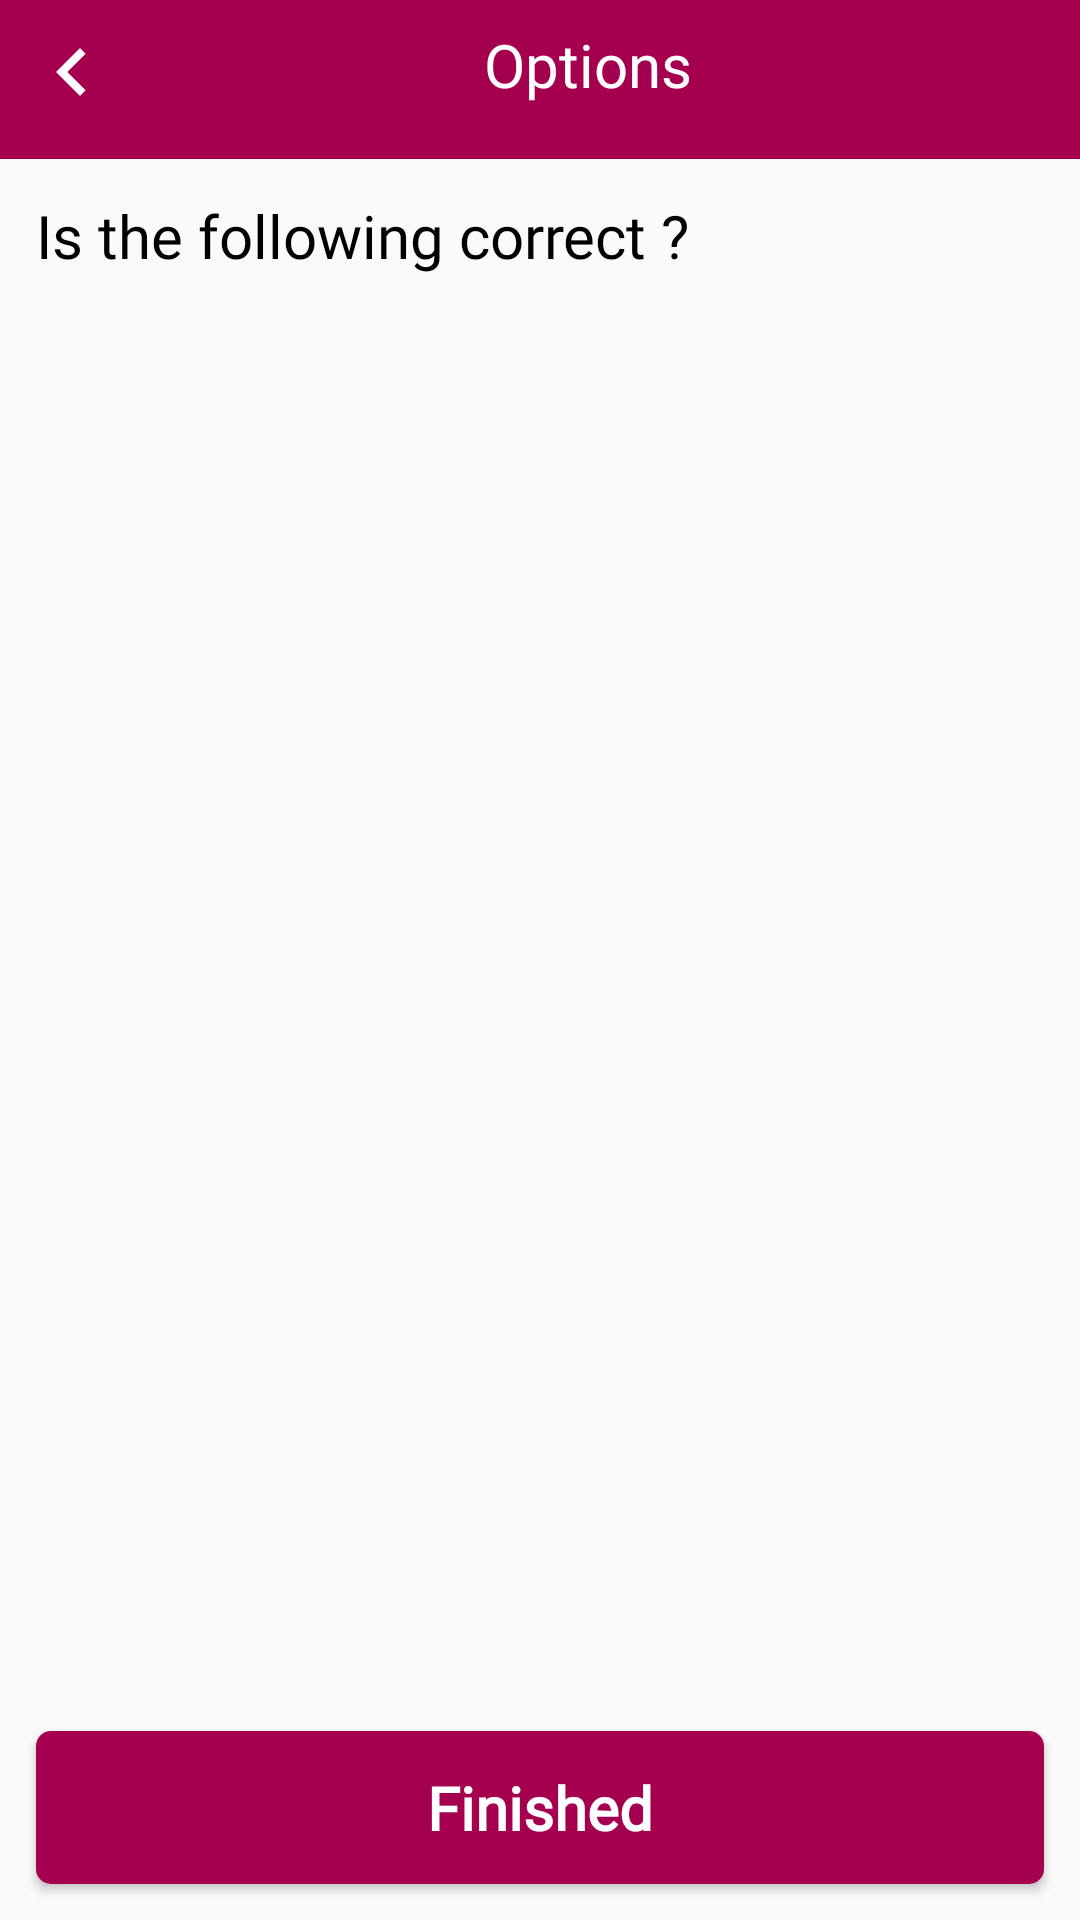

Screen size 1080*1920. Icon name, then its box in pixels as (left=x1, top=y1, right=x2, bottom=y2):
navigate back: (left=56, top=48, right=86, bottom=96)
